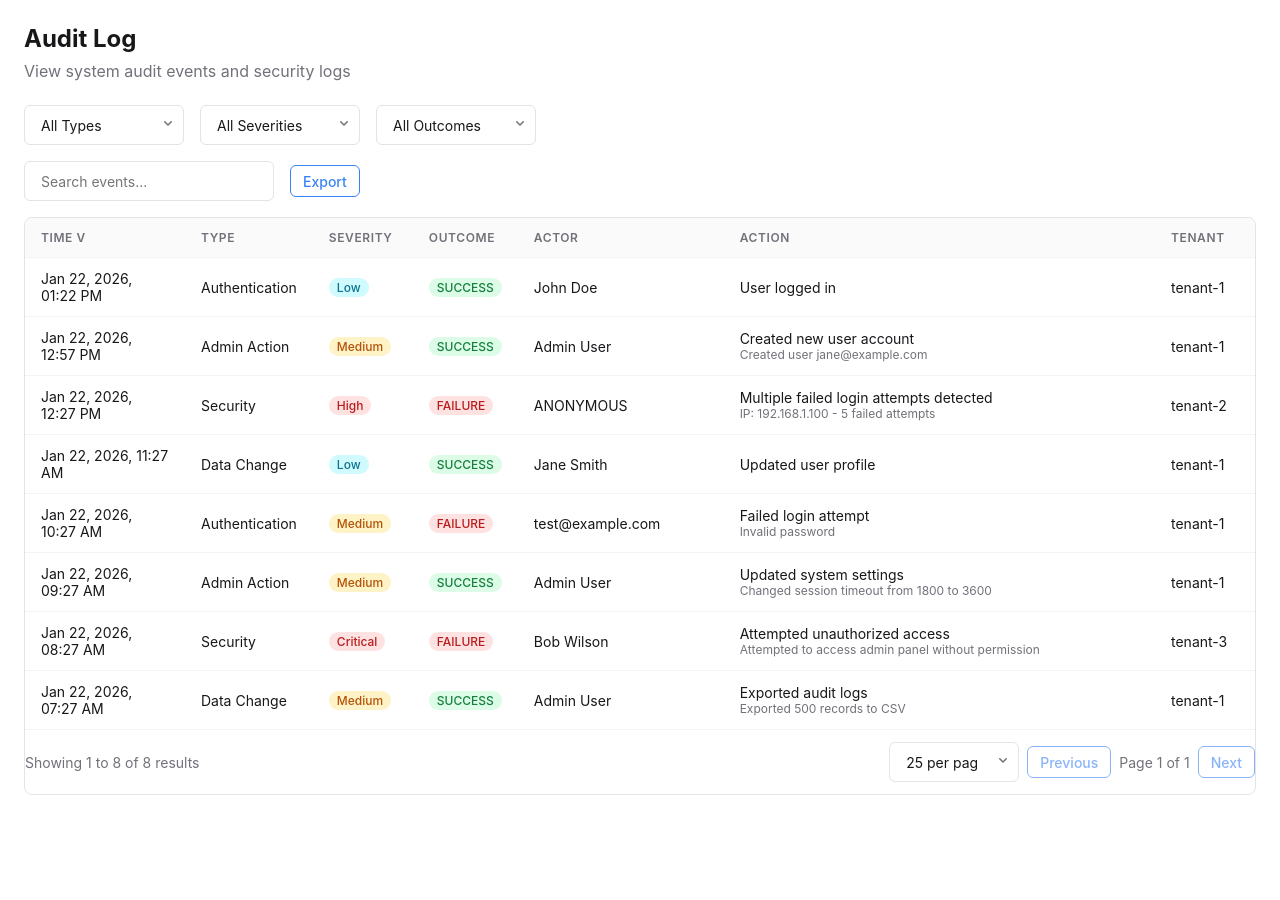
Scenario: AuditLog › should filter by severity
Select "High" in the dropdown with test id "severity-filter": (280, 125) [200,105,360,145]
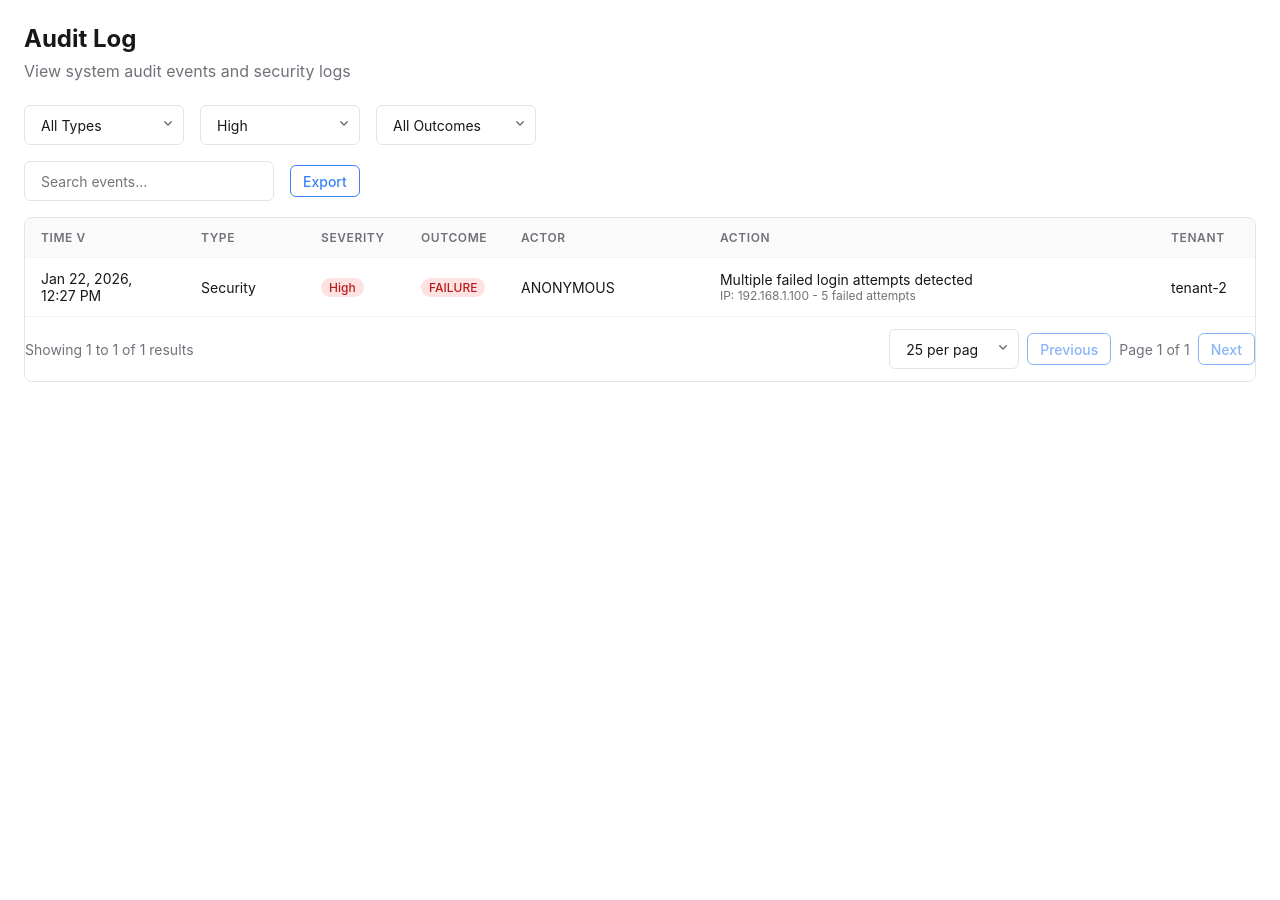
expect the text "User logged in" is gone: met
